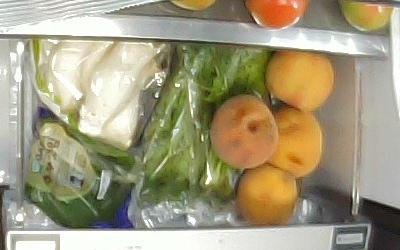peach: (209, 95, 279, 170), (264, 105, 323, 177), (265, 51, 335, 111), (237, 164, 299, 224)
